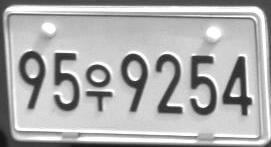2: (154, 52, 183, 114)
4: (222, 55, 252, 116)
5: (189, 55, 217, 116), (52, 51, 80, 111)
9: (18, 49, 46, 109), (120, 52, 148, 112)
우: (85, 63, 113, 112)
